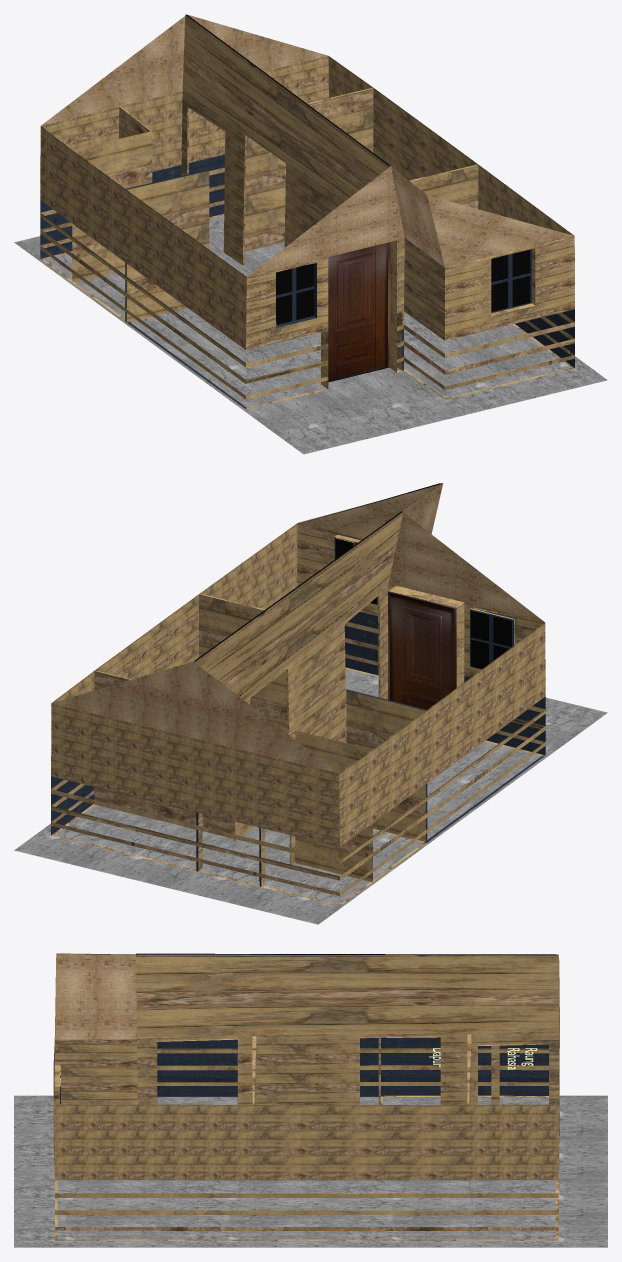
File: Rumah Kades (dalam) FIX.fbx
3 views of the same model, one above another, from view 1: azimuth 30°, elevation 25°; view 2: azimuth 150°, elevation 25°; view 3: azimuth 270°, elevation 25° (orthographic). The views are drawn at different scales.
Visible parts, largest first — view 1: Base, Plane, Base.001; view 2: Base, Plane, Base.001; view 3: Base, Plane.
Part boxes in pixels (left/top/right/bottom): Base: left=40, top=14, right=574, bottom=409; Plane: left=14, top=215, right=607, bottom=454; Base.001: left=276, top=263, right=314, bottom=325; Base: left=51, top=483, right=545, bottom=905; Plane: left=14, top=669, right=607, bottom=924; Base.001: left=470, top=608, right=515, bottom=669; Base: left=53, top=953, right=559, bottom=1240; Plane: left=14, top=1095, right=607, bottom=1247.
Bounding box in the file's own units: 3384 × 2225 × 5580.
14 materials, 7 textured.
